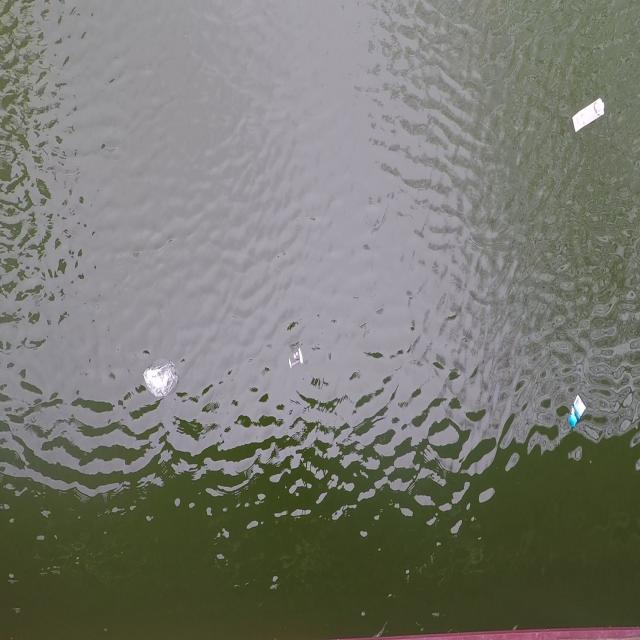Non plastique: (284, 345, 306, 371)
Sac plastique: (140, 358, 181, 401)
